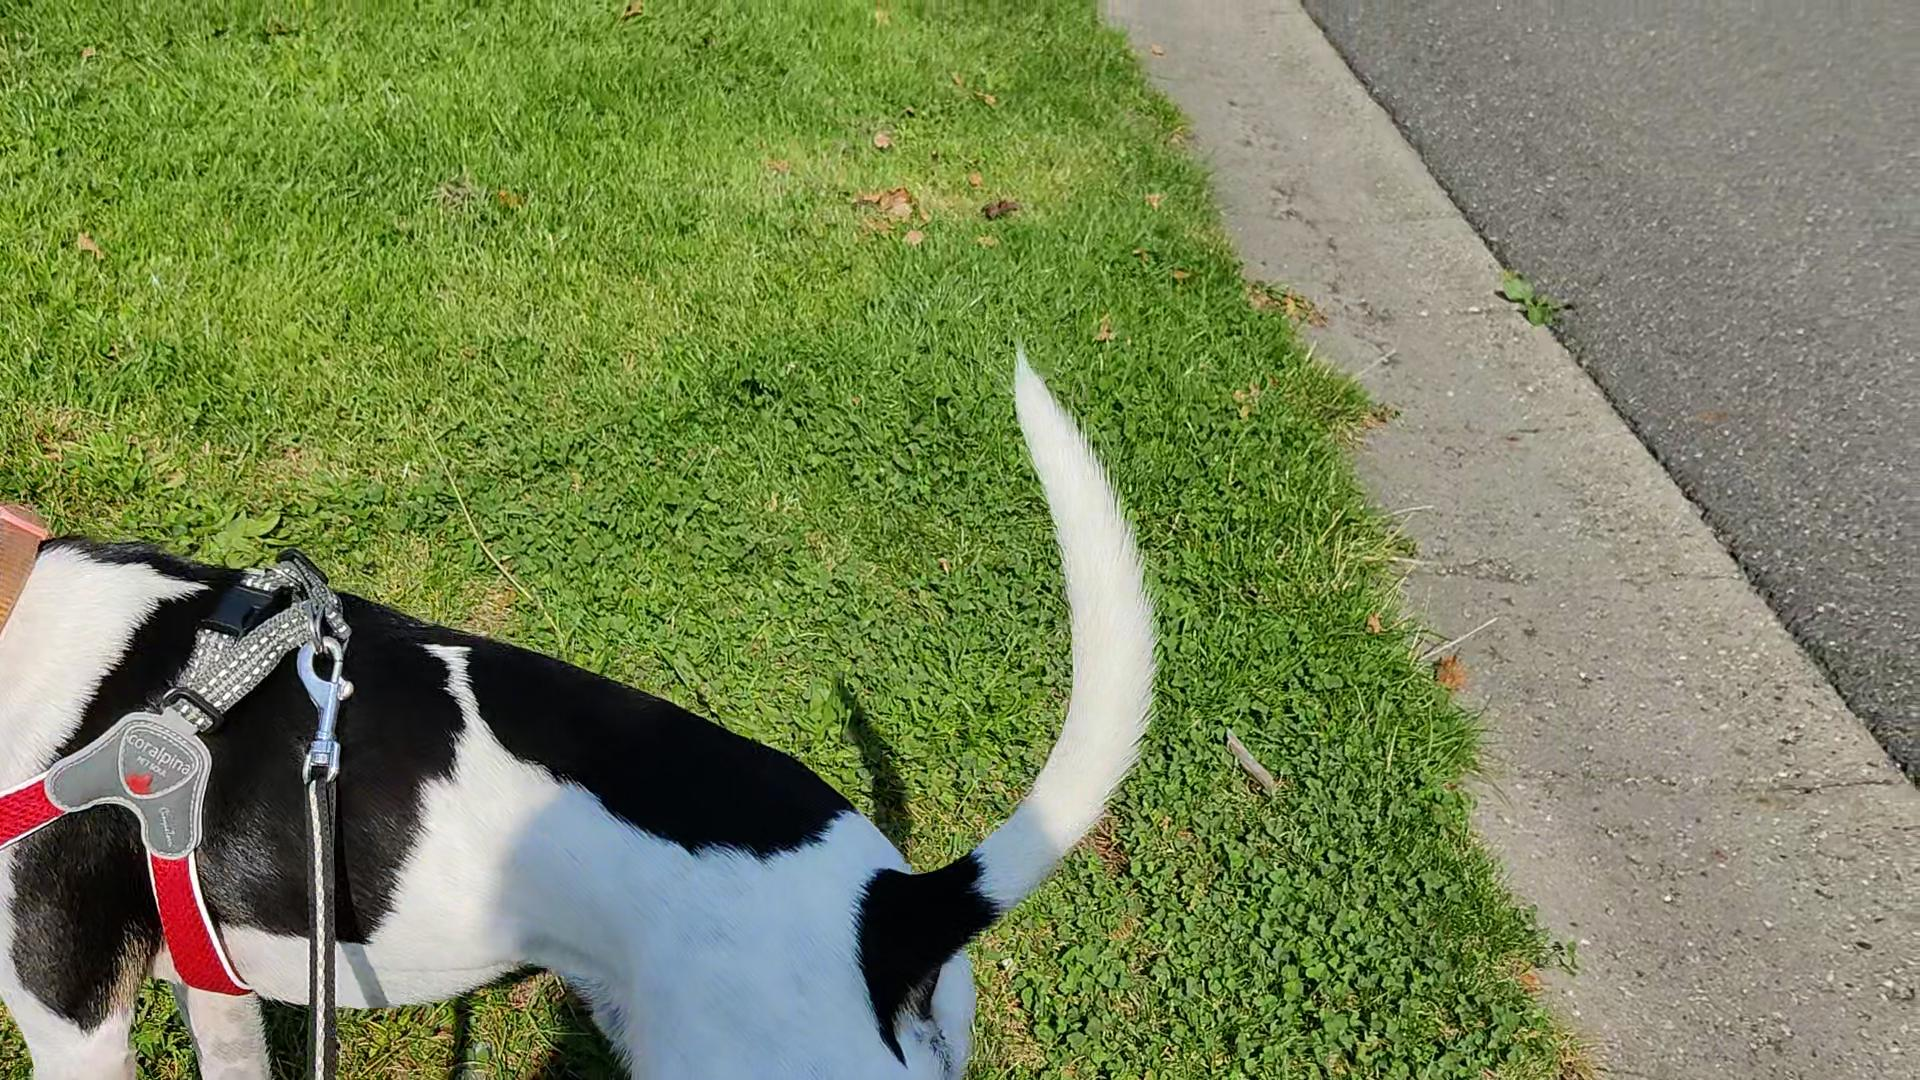Dog: (0, 340, 1159, 1079)
